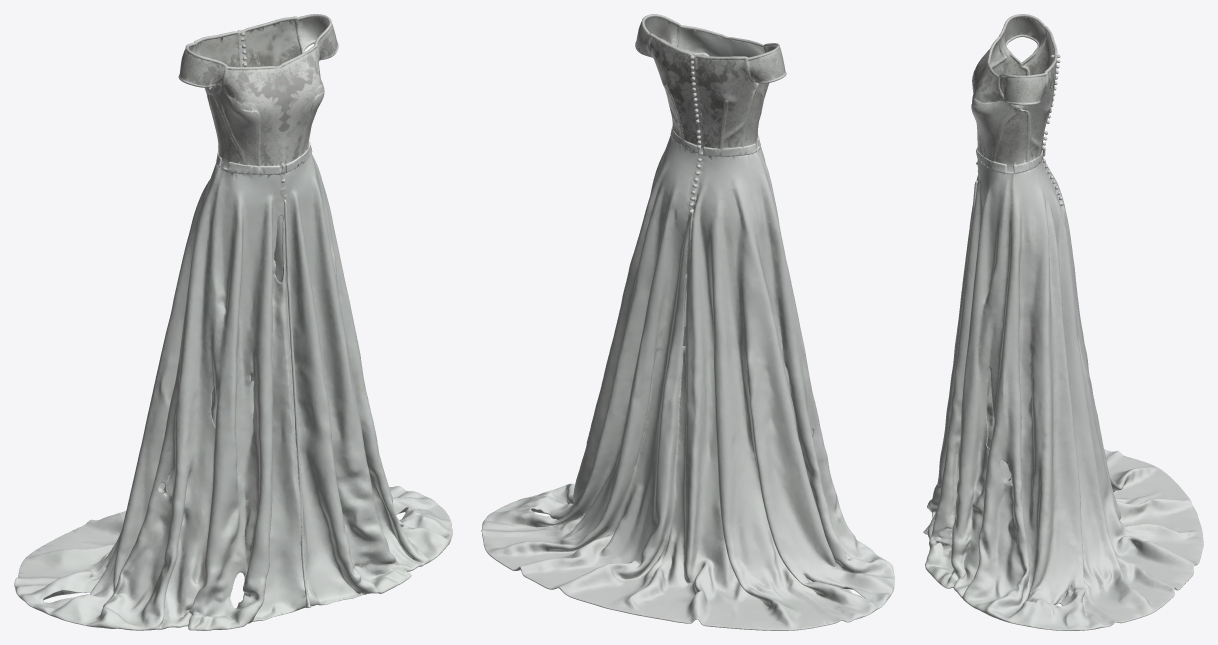
Rendered from white-dress.glb.
3 renders of one model, left to right at view 1: azimuth 30°, elevation 25°; view 2: azimuth 150°, elevation 25°; view 3: azimuth 270°, elevation 25°, orthographic. The views are drawn at different scales.
Bounding box in the file's own units: 1.51 × 1.9 × 0.9761.
Materials: 1 (1 with a texture image).
